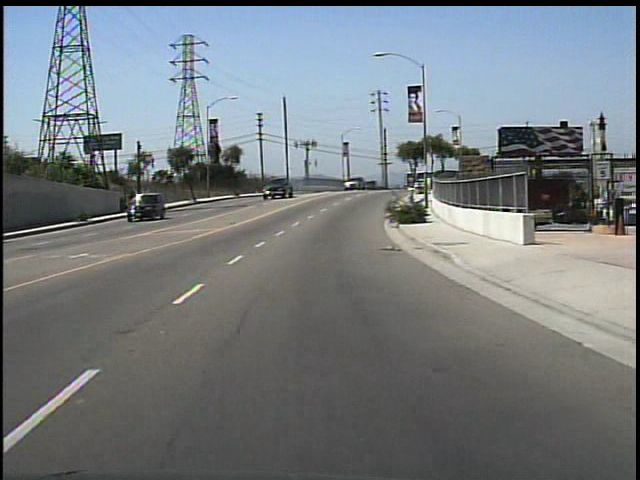person: (425, 173, 437, 198)
